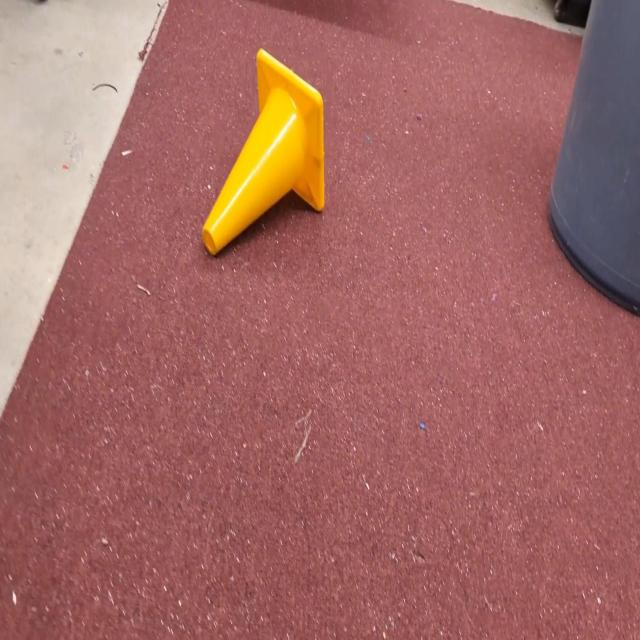frc_cone: (203, 47, 324, 259)
